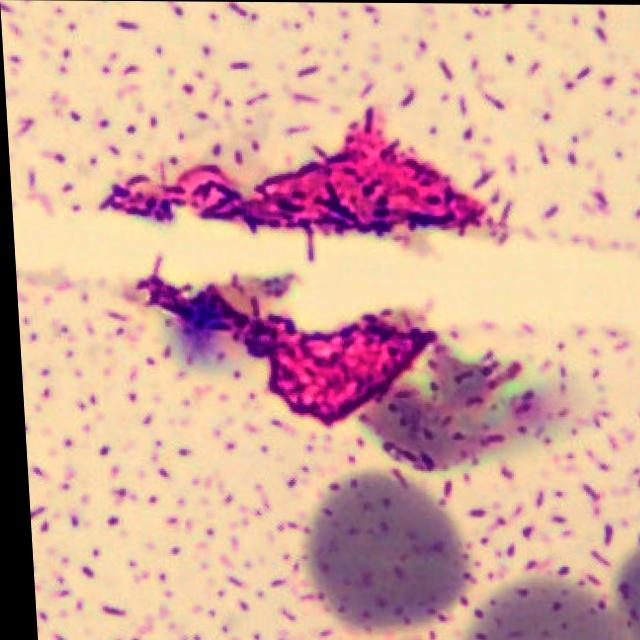Restos celulares: (96, 103, 483, 284), (134, 271, 430, 424)
